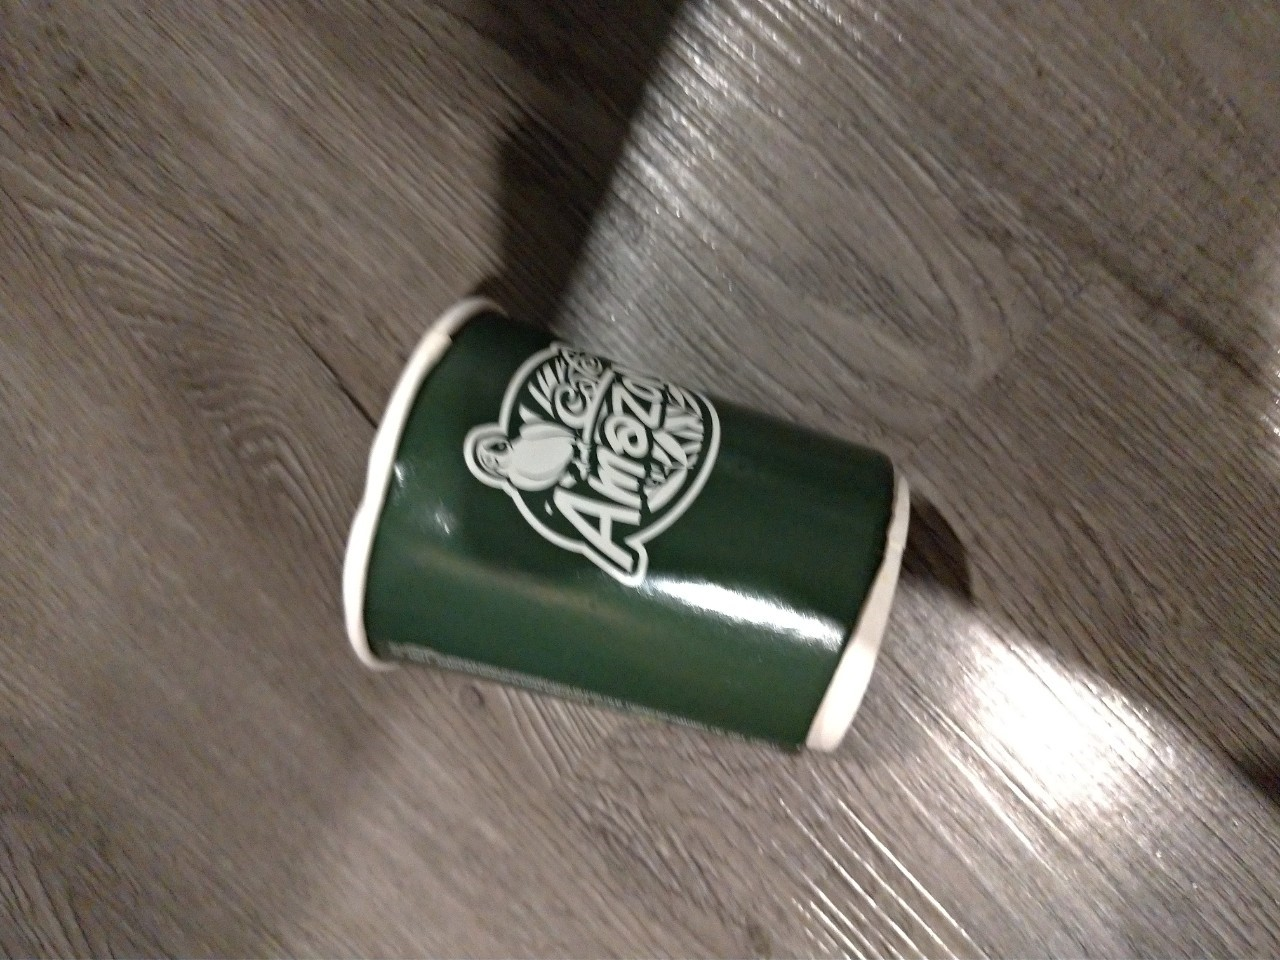PaperCup: (336, 299, 918, 765)
